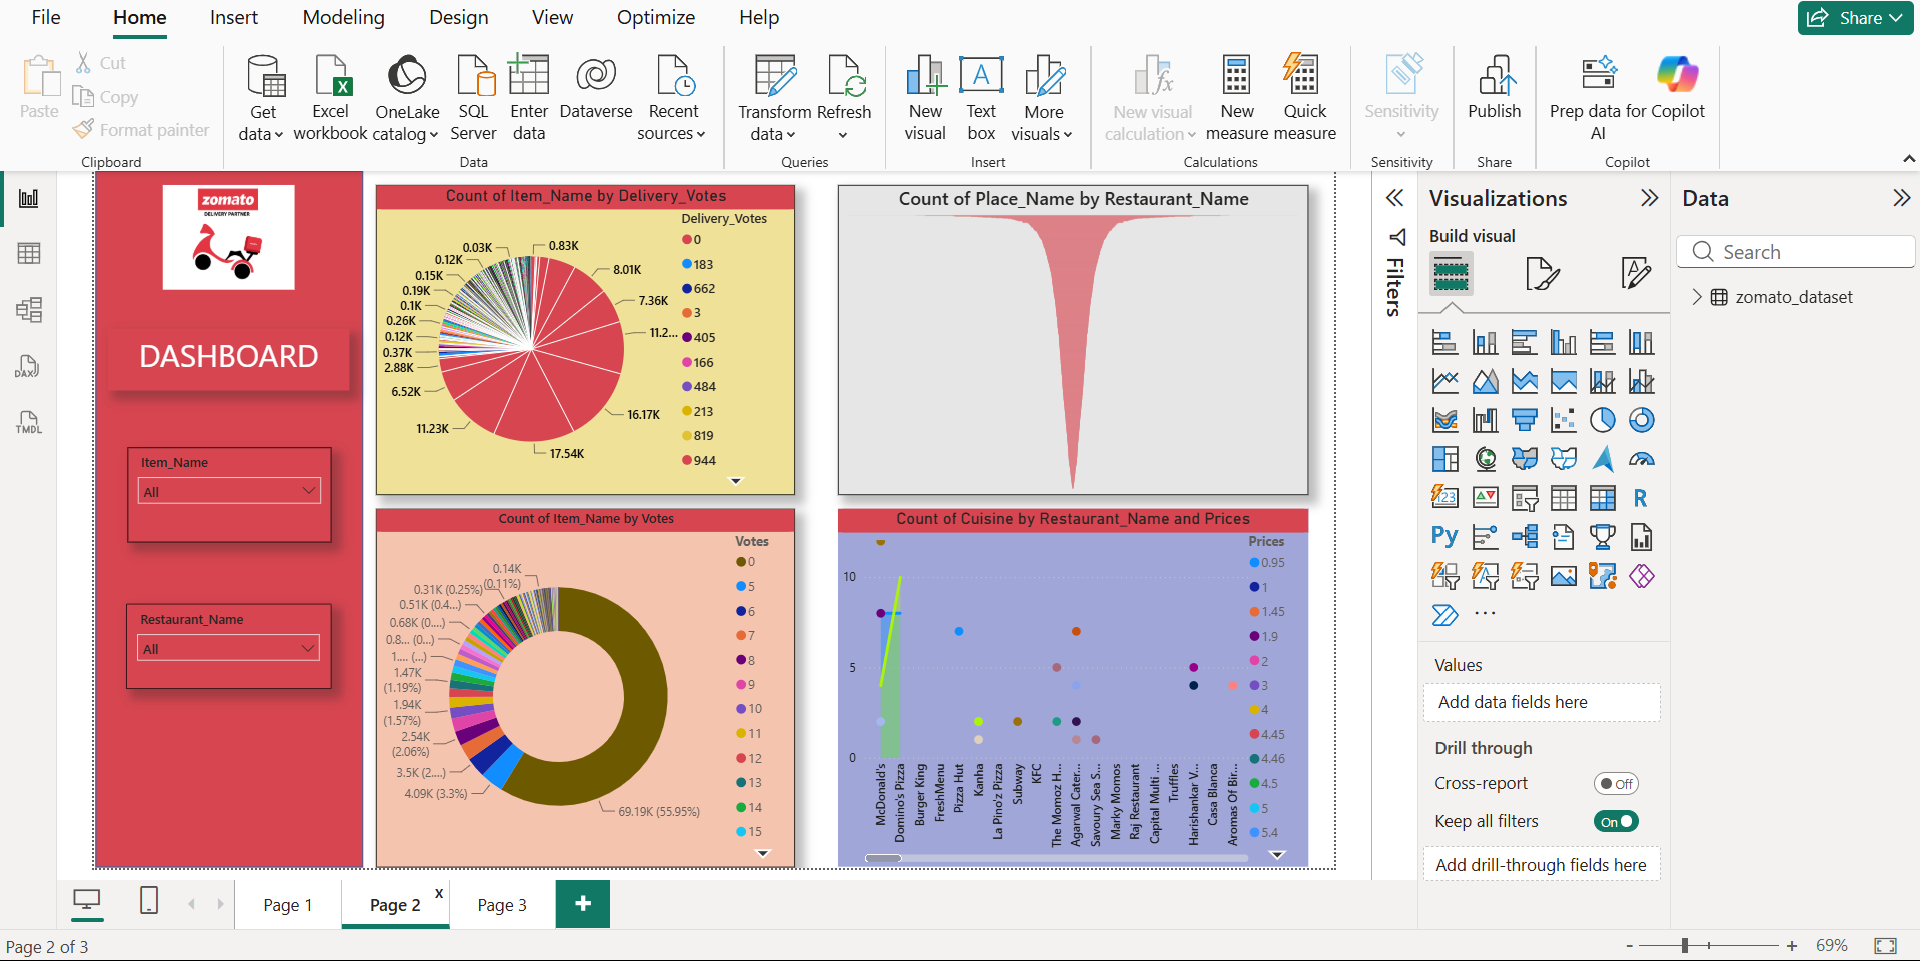

Layout of this report page (visuals, bound fields, positions):
{"tool":"powerbi","page":{"name":"Page 2","canvas":[1280,720],"ordinal":1},"visuals":[{"type":"shape","box":[1.4,0,276.8,719.3],"z":0},{"type":"image","box":[14.4,14.4,249.4,108.1],"z":1},{"type":"textbox","box":[14.4,162.9,249.4,63.4],"z":2},{"type":"pieChart","title":"Count of Item_Name by Delivery_Votes ","fields":{"Category":["zomato_dataset.Delivery_Votes"],"Y":["CountNonNull(zomato_dataset.Item_Name)"],"Series":["zomato_dataset.Delivery_Rating"]},"box":[291.2,14.4,432.5,320],"z":3},{"type":"donutChart","fields":{"Category":["zomato_dataset.Votes"],"Y":["CountNonNull(zomato_dataset.Item_Name)"]},"box":[291.2,348.9,432.5,370.5],"z":4},{"type":"funnel","fields":{"Category":["zomato_dataset.Restaurant_Name"],"Y":["CountNonNull(zomato_dataset.Place_Name)"]},"box":[768.4,14.4,485.8,320],"z":5},{"type":"areaChart","fields":{"Category":["zomato_dataset.Restaurant_Name"],"Y":["CountNonNull(zomato_dataset.Cuisine )"],"Series":["zomato_dataset.Prices"]},"box":[768,349,486,370],"z":6},{"type":"slicer","fields":{"Values":["zomato_dataset.Item_Name"]},"box":[34.6,285.4,210.5,98],"z":7},{"type":"slicer","fields":{"Values":["zomato_dataset.Restaurant_Name"]},"box":[33.2,446.9,211.9,87.9],"z":8}]}

Visuals, with their boxes on the page's 1280x720 design canvas (x1, y1, x2, y2). These are canvas units, not pixel positions in the 1920x961 screenshot, which may show the page scaled, cropped or inside an application window:
shape: bbox(1, 0, 278, 719)
image: bbox(14, 14, 264, 122)
textbox: bbox(14, 163, 264, 226)
"Count of Item_Name by Delivery_Votes " pieChart: bbox(291, 14, 724, 334)
donutChart - zomato_dataset.Votes x CountNonNull(zomato_dataset.Item_Name): bbox(291, 349, 724, 719)
funnel - zomato_dataset.Restaurant_Name x CountNonNull(zomato_dataset.Place_Name): bbox(768, 14, 1254, 334)
areaChart - zomato_dataset.Restaurant_Name x CountNonNull(zomato_dataset.Cuisine ): bbox(768, 349, 1254, 719)
slicer - zomato_dataset.Item_Name: bbox(35, 285, 245, 383)
slicer - zomato_dataset.Restaurant_Name: bbox(33, 447, 245, 535)
